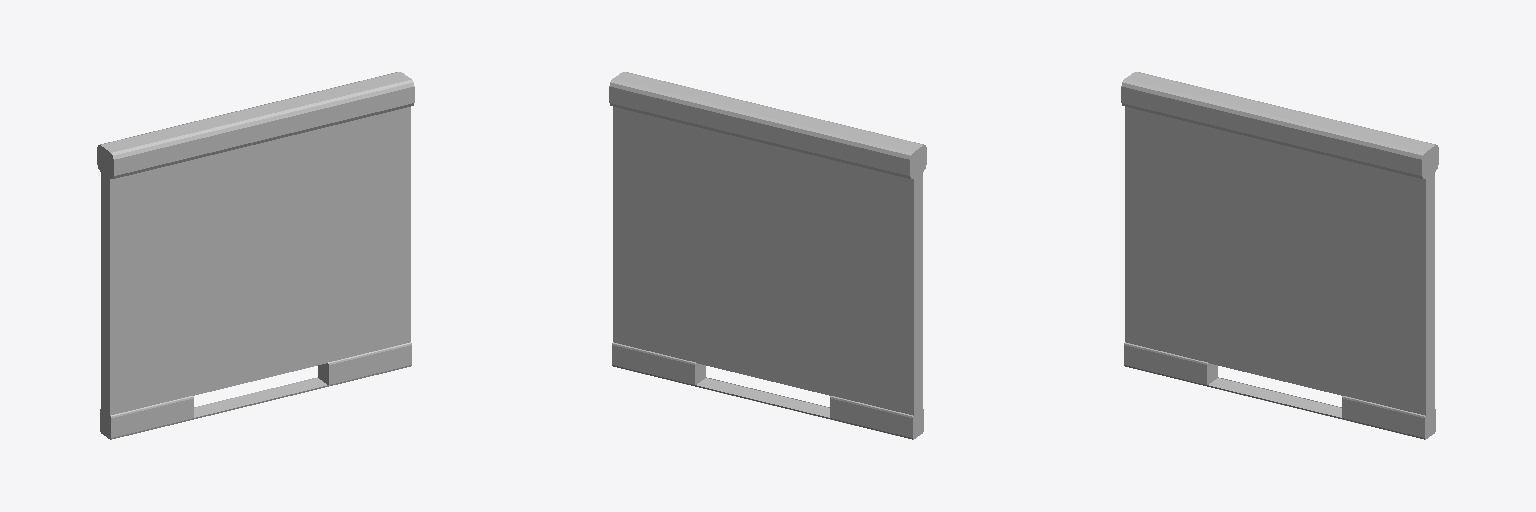
Rendered from modular_doorway.obj.
3 renders of one model, left to right at view 1: azimuth 30°, elevation 25°; view 2: azimuth 150°, elevation 25°; view 3: azimuth 330°, elevation 25°, orthographic.
Visible parts, largest first — view 1: modular_doorway_Cube.026; view 2: modular_doorway_Cube.026; view 3: modular_doorway_Cube.026.
Boxes of the visible parts, box(x1,y1,x2,y2) form: modular_doorway_Cube.026: box(97, 72, 414, 439); modular_doorway_Cube.026: box(609, 72, 926, 439); modular_doorway_Cube.026: box(1121, 72, 1438, 439).
Bounding box in the file's own units: 9.3 × 8.49 × 0.8755.